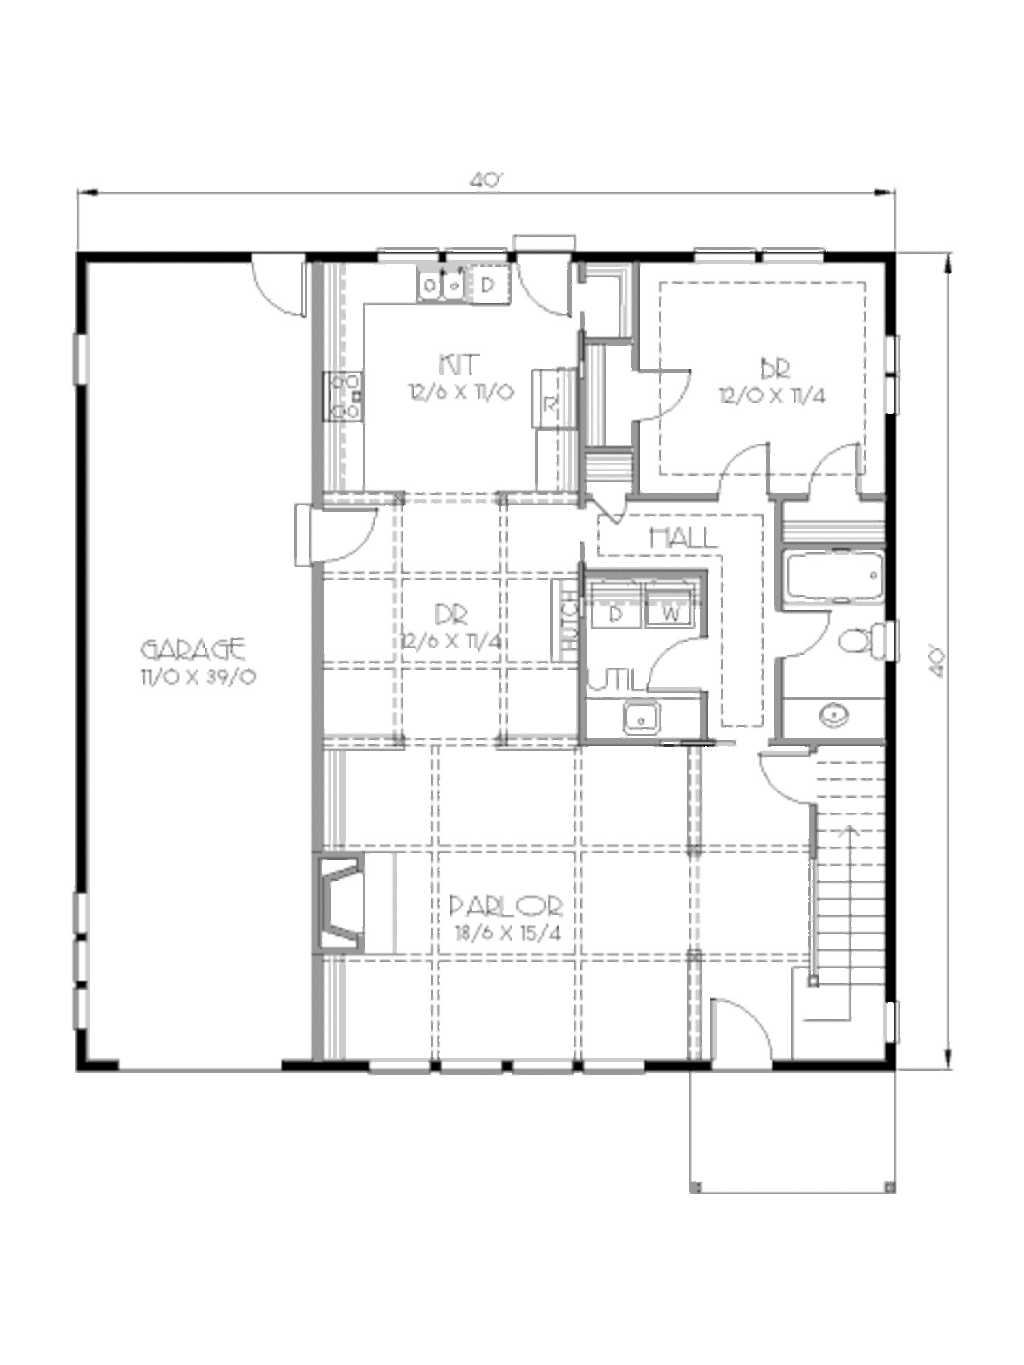door: (291, 496, 388, 571), (701, 992, 784, 1073), (638, 621, 711, 702), (246, 246, 307, 332), (709, 436, 773, 513), (511, 250, 582, 319), (634, 359, 694, 433), (809, 438, 867, 504), (782, 607, 830, 663), (580, 477, 630, 523)
large_sink: (834, 615, 904, 676)
small_sink: (784, 700, 884, 744)
stairs: (811, 744, 894, 975)
tub: (773, 544, 892, 605)
twin_sink: (411, 257, 473, 305)
window: (757, 230, 823, 278), (359, 1044, 433, 1077), (689, 240, 767, 267), (580, 1048, 640, 1082), (880, 335, 905, 413), (513, 1050, 571, 1082), (446, 1052, 504, 1080), (73, 327, 93, 394)
